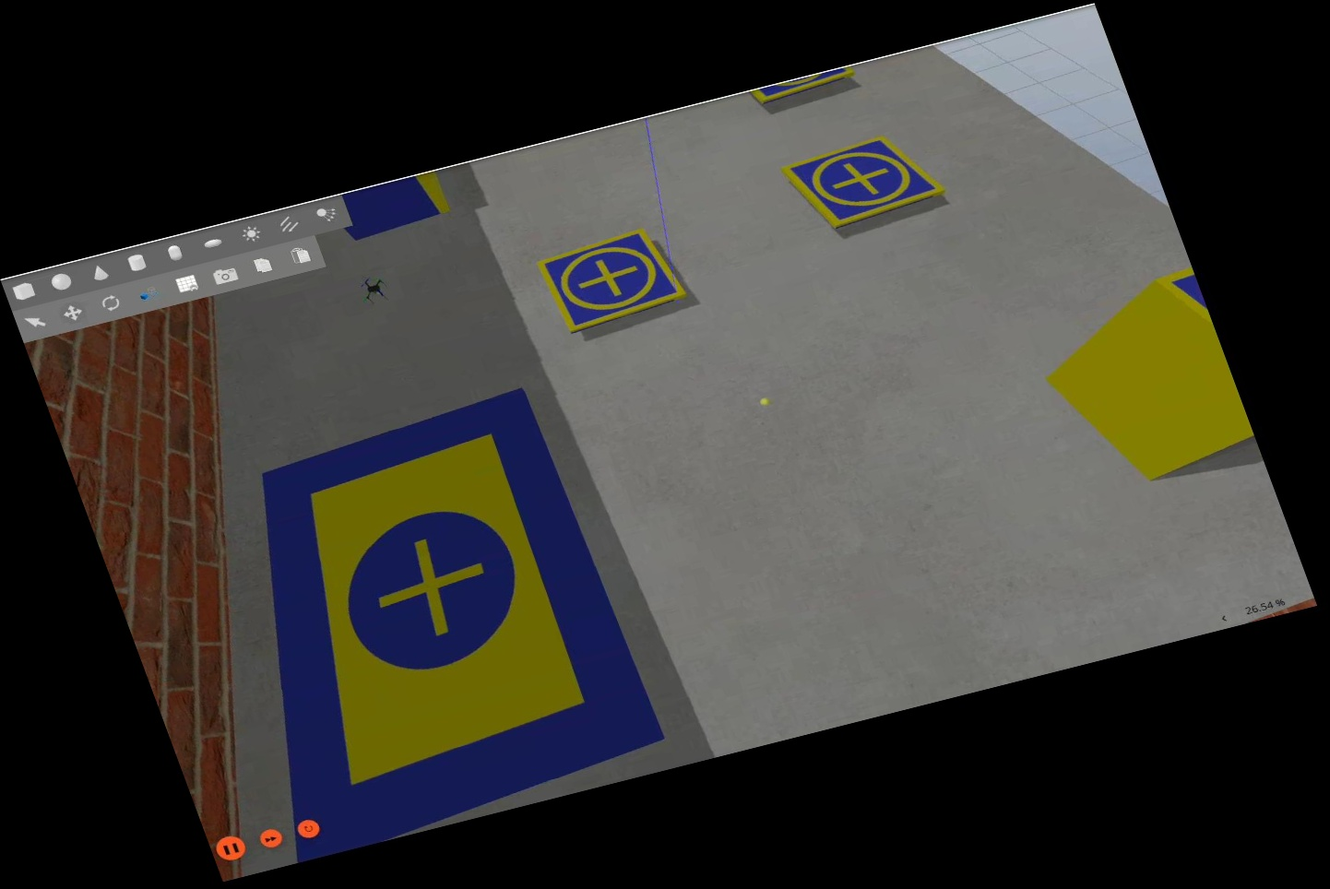large_base: (157, 382, 682, 861)
small_base: (782, 126, 953, 240), (532, 224, 694, 339)
